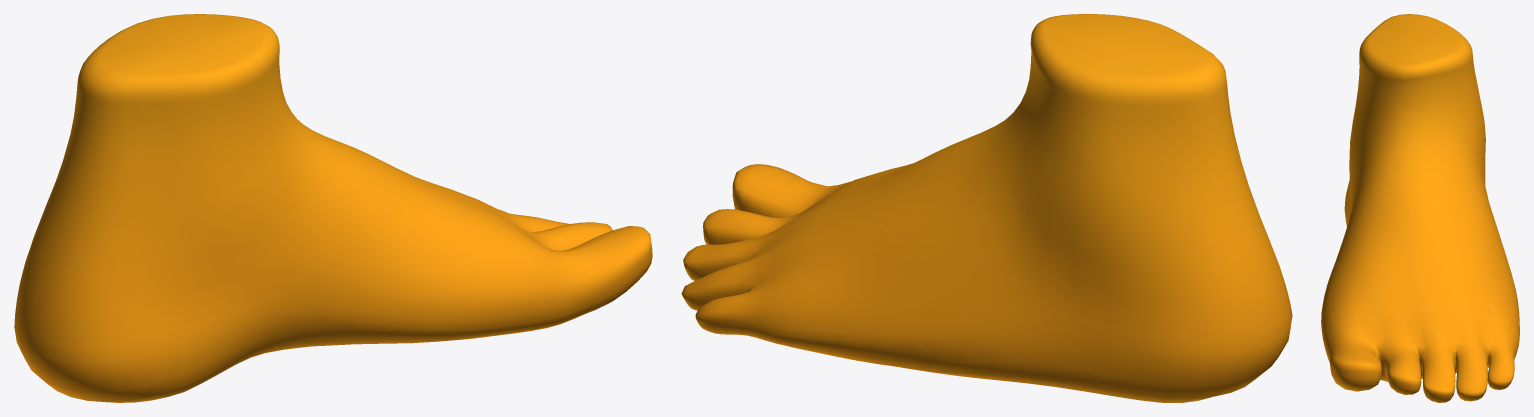
File: foot.fbx
3 views of the same model, side by side, from view 1: azimuth 30°, elevation 25°; view 2: azimuth 150°, elevation 25°; view 3: azimuth 270°, elevation 25° (orthographic). The views are drawn at different scales.
Visible parts, largest first — view 1: Circle.273; view 2: Circle.273; view 3: Circle.273.
Boxes of the visible parts, x1,y1,x2,y2 form: Circle.273: (14,14,652,402); Circle.273: (681,14,1292,402); Circle.273: (1321,14,1519,402).
Bounding box in the file's own units: 181 × 99.02 × 76.73.
2 materials, 2 textured.
